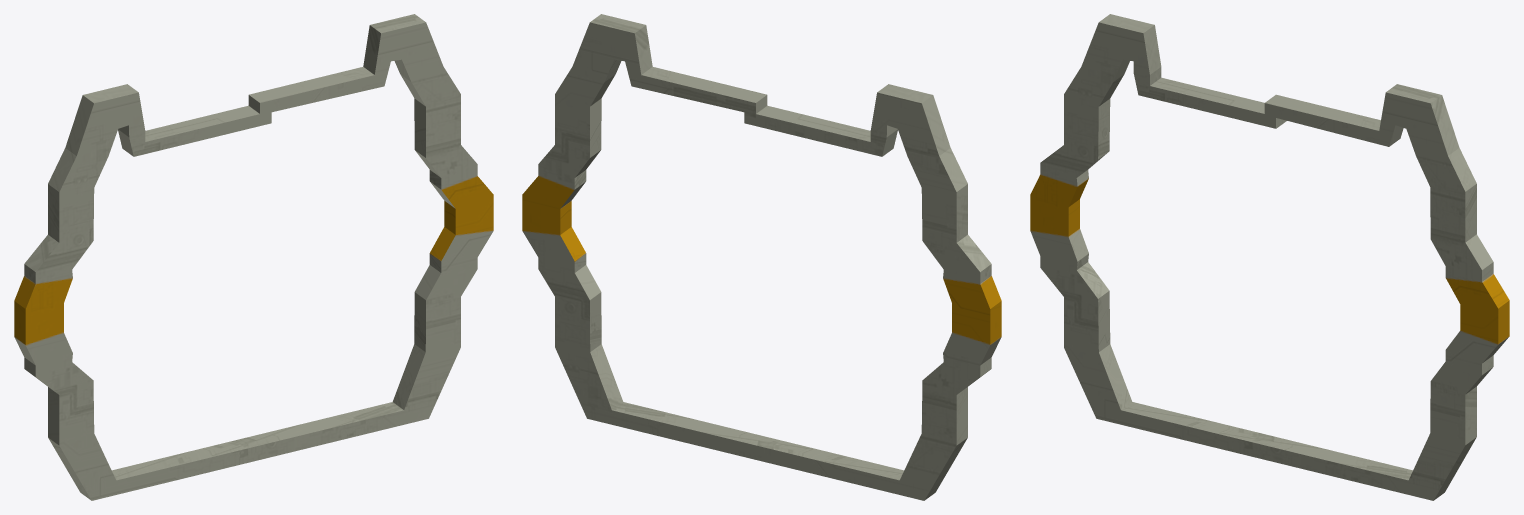
The model's file is BandaTransporteInter.fbx.
The picture shows the model from 3 angles, left to right: view 1: azimuth 30°, elevation 25°; view 2: azimuth 150°, elevation 25°; view 3: azimuth 330°, elevation 25°; orthographic projection.
Visible parts, largest first — view 1: Cube.211; view 2: Cube.211; view 3: Cube.211.
Boxes of the visible parts, box(x1,y1,x2,y2) form: Cube.211: box(14, 14, 493, 500); Cube.211: box(522, 14, 1001, 500); Cube.211: box(1030, 14, 1509, 500).
Bounding box in the file's own units: 70.92 × 57.49 × 3.01.
